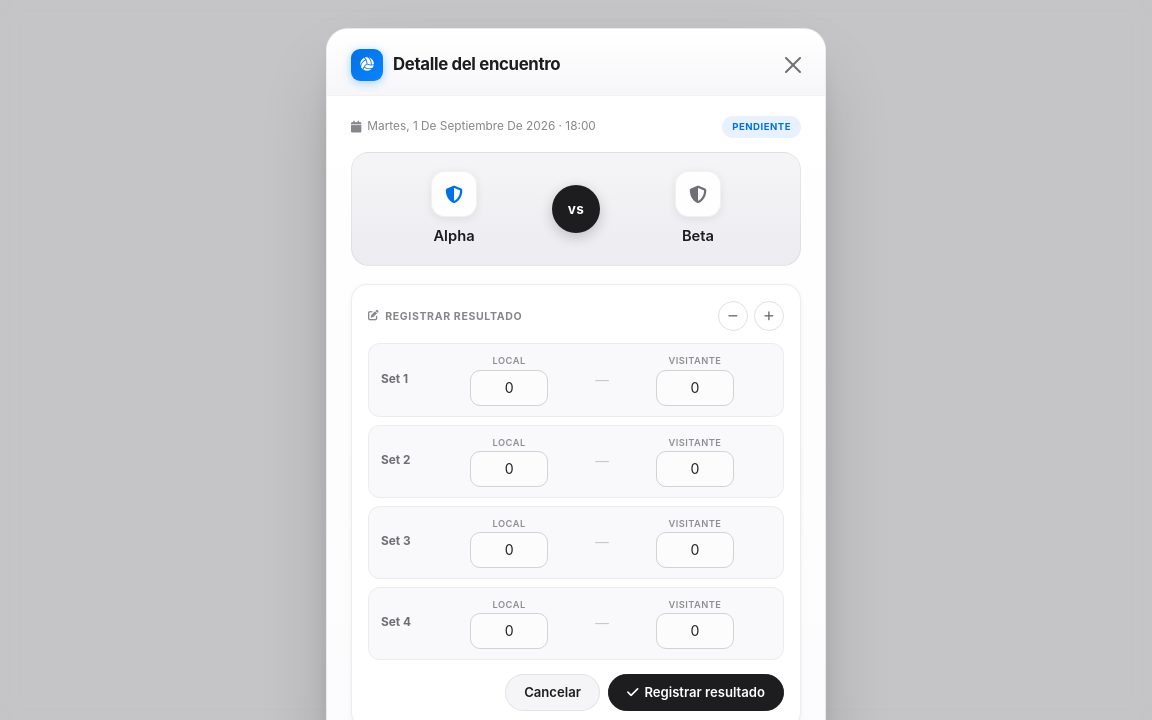
EncuentroModal › ignora caracteres no numericos en los marcadores de los sets
The image size is (1152, 720).
Replace the text in the 1st field with "-1". click: [509, 388]
box: [470,370,548,406]
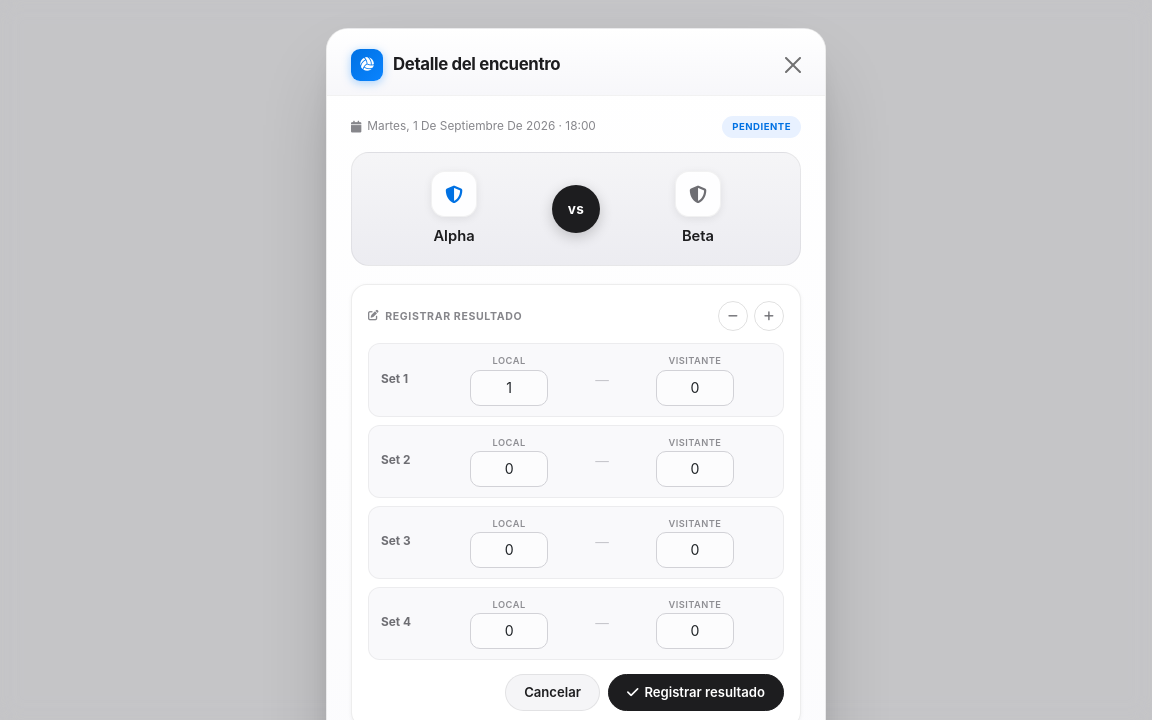
Expected: the 2nd field holds "0", [656,370,734,406]
Expected: the 1st field holds "1", [470,370,548,406]
